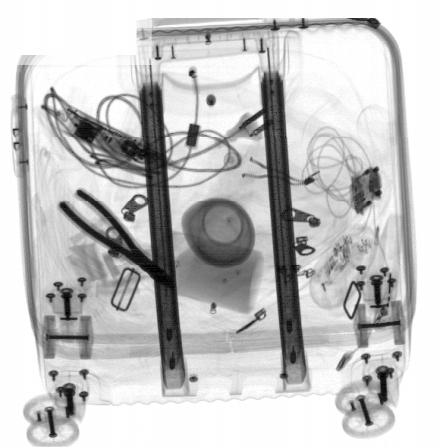Pliers: (56, 187, 175, 291)
